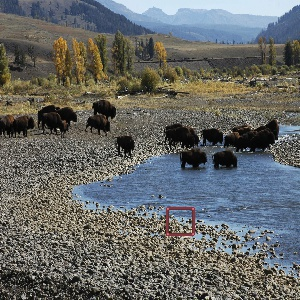square: (165, 206, 195, 237)
